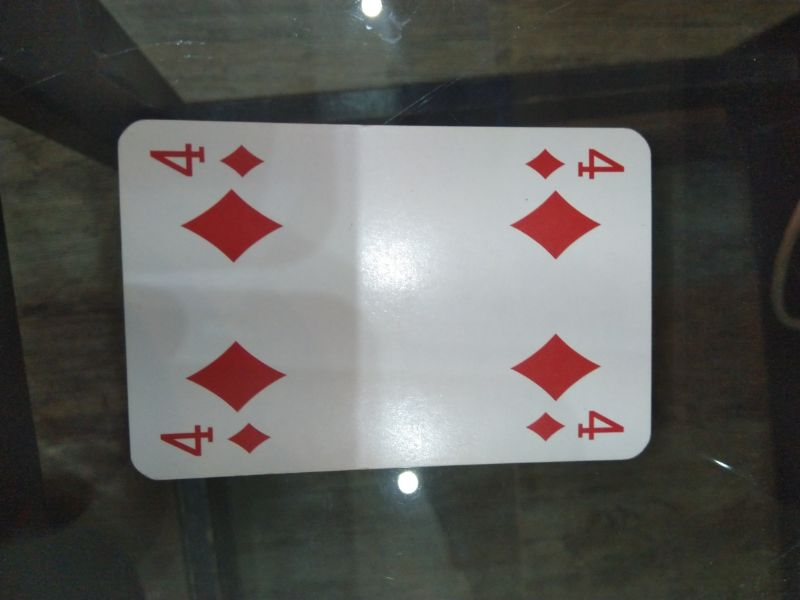4d: (147, 139, 269, 183), (156, 419, 274, 463), (522, 139, 630, 187), (523, 405, 630, 448)
